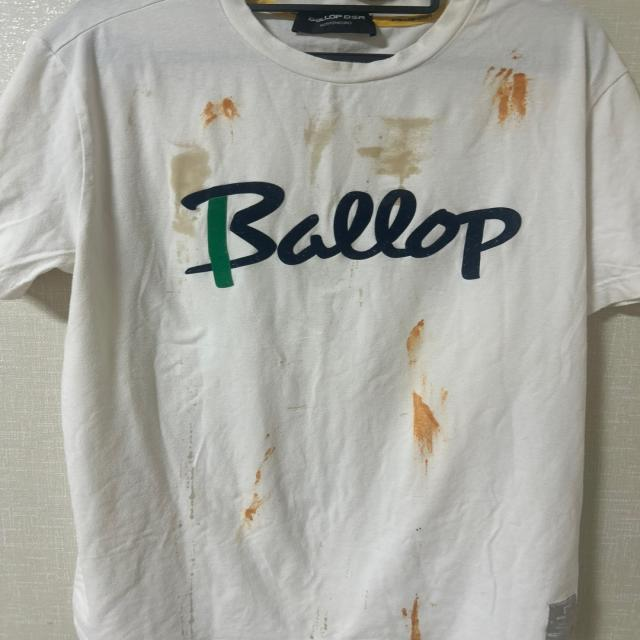stain: (357, 115, 441, 189), (232, 431, 283, 535), (161, 138, 210, 242), (283, 116, 343, 188), (406, 382, 443, 480), (481, 66, 535, 127), (178, 428, 203, 524), (396, 315, 436, 374), (181, 540, 202, 640), (192, 96, 248, 131), (396, 599, 426, 640), (504, 48, 532, 63)
